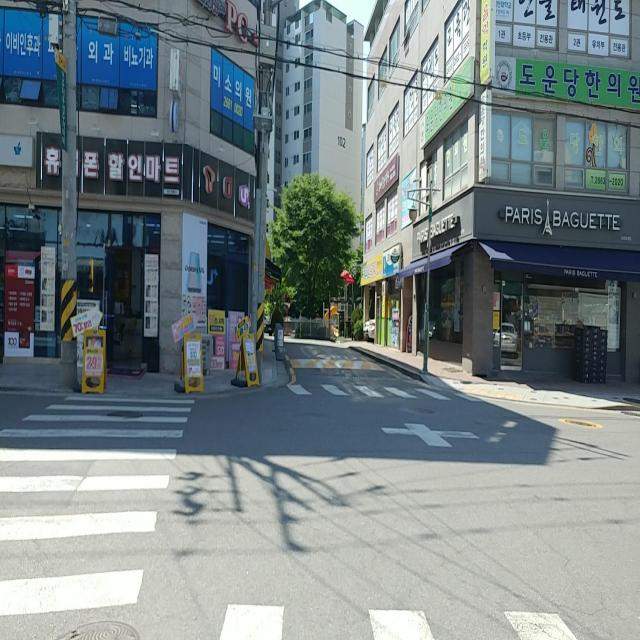횡단보도: (0, 391, 197, 619), (286, 380, 452, 406)
